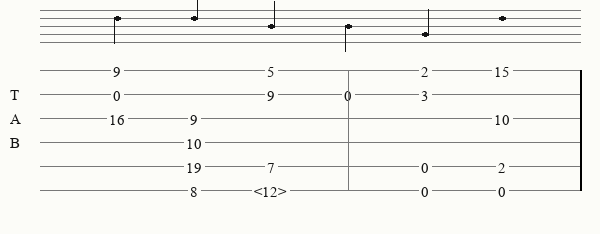0: (113, 87, 125, 101), (344, 87, 356, 101), (421, 159, 433, 173), (421, 183, 433, 197), (498, 183, 510, 197)
10: (186, 135, 206, 149), (494, 111, 514, 125)
15: (494, 63, 514, 77)
16: (109, 111, 129, 125)
19: (186, 159, 206, 173)
2: (421, 63, 433, 77), (498, 159, 510, 173)
3: (421, 87, 433, 101)
5: (267, 63, 279, 77)
7: (267, 159, 279, 173)
8: (190, 183, 202, 197)
9: (113, 63, 125, 77), (190, 111, 202, 125), (267, 87, 279, 101)
harmonic: (254, 183, 291, 197)
